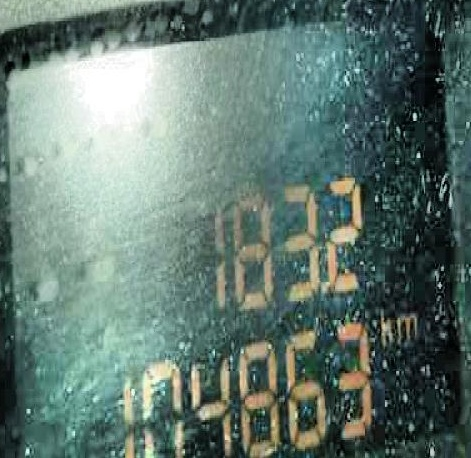0: (140, 355, 184, 457)
1: (210, 199, 226, 313), (120, 373, 136, 457)
2: (325, 175, 362, 291)
3: (332, 318, 372, 440), (279, 184, 320, 299)
4: (188, 353, 232, 457)
6: (283, 329, 327, 449)
8: (236, 338, 280, 458), (232, 184, 272, 313)
X: (394, 308, 417, 344), (377, 309, 392, 351)
